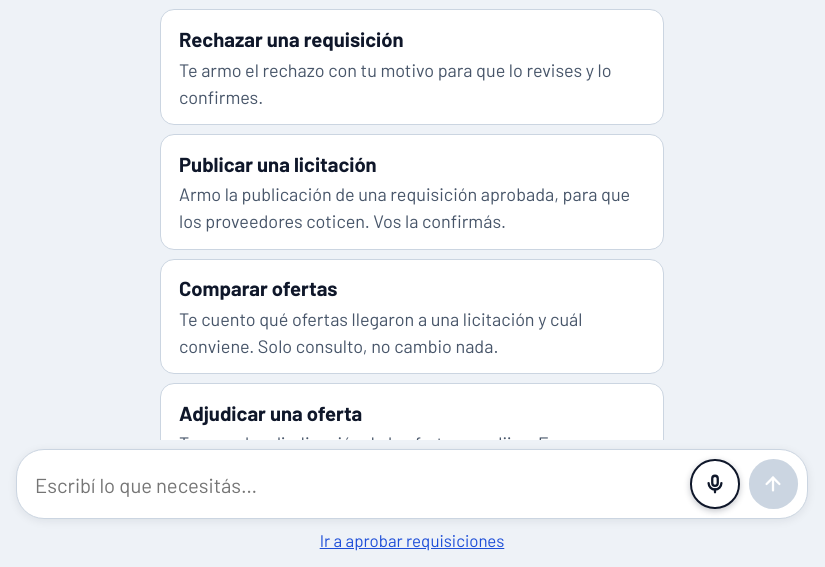
Scenario: AsistenteChatPage en el portal de Compras › arma la tarjeta de aprobación con el resumen y NO aprueba hasta que se toca Aprobar
(page scrolled)
Type "aprobá la REQ-2026-0042" into the text box named "Escribí tu mensaje" at (358, 485), box [35, 461, 681, 509]
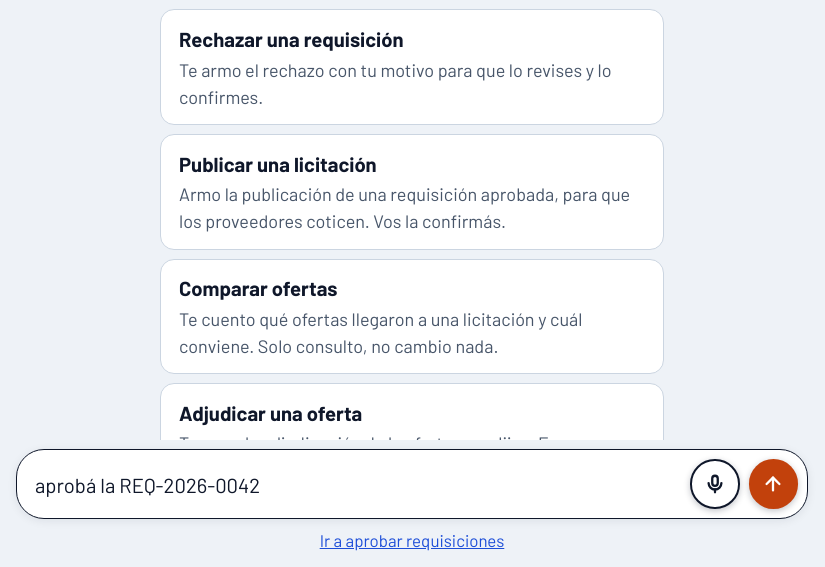
Click the button named "Enviar" at (773, 484), box [748, 460, 798, 509]
(page scrolled)
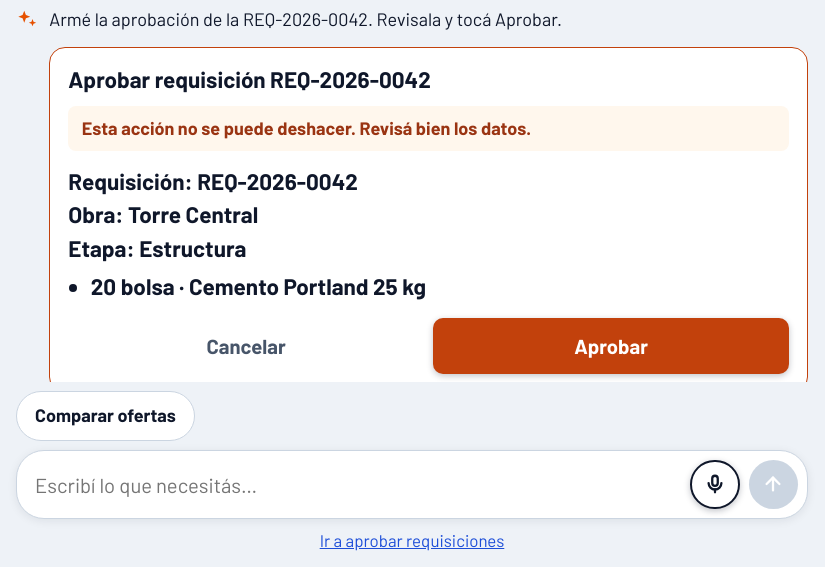
Now the heading "Aprobar requisición REQ-2026-0042" is shown, box [68, 65, 431, 93]
Now the text "Requisición: REQ-2026-0042" is shown, box [68, 167, 358, 195]
Now the text "Obra: Torre Central" is shown, box [68, 200, 258, 228]
